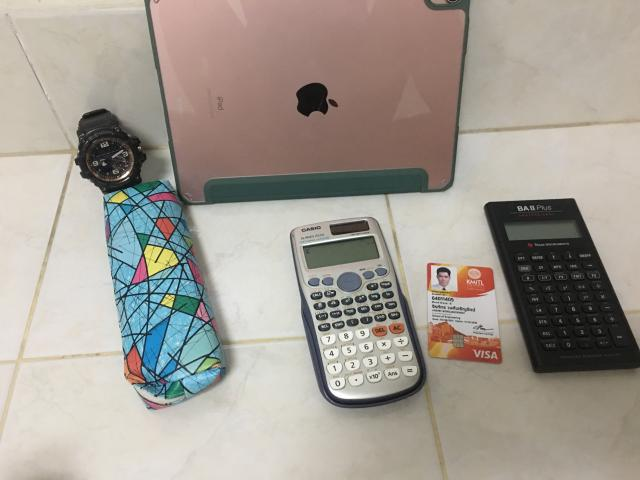Watch: (75, 109, 146, 194)
